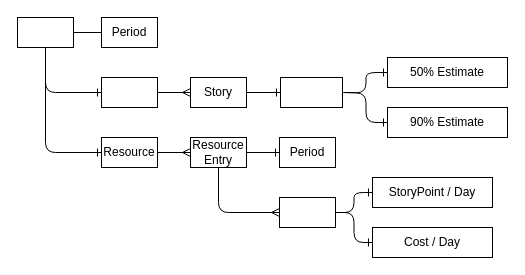
This 525x275 diagram has some shape labels left out. The centre of each missing label's shape, as x and y in pixels:
Plan: (x=45, y=32)
Scope: (x=129, y=92)
StoryPoint: (x=311, y=92)
Velocity: (x=307, y=212)
